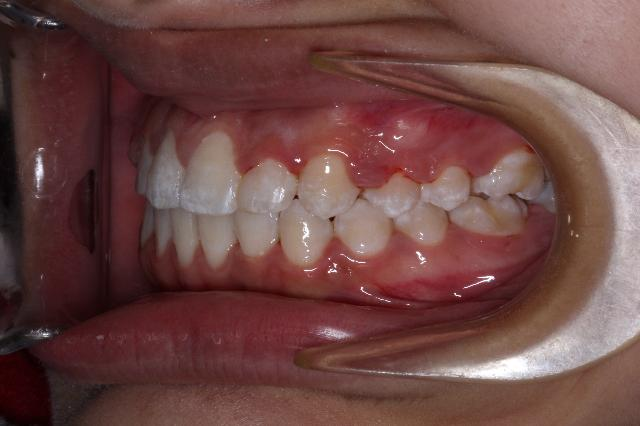canine class II 1/4: (278, 150, 394, 274)
molar class III 1/4: (448, 142, 554, 252)
